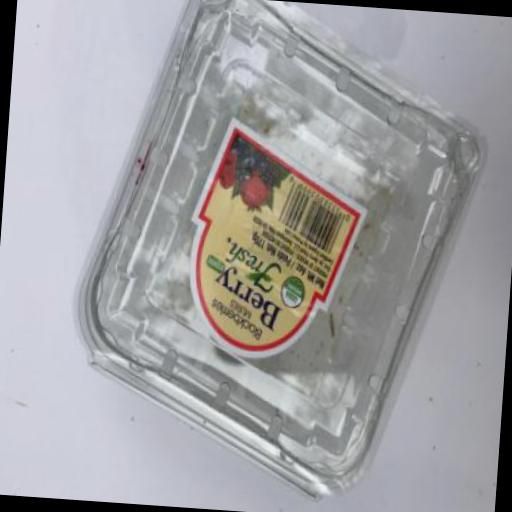plastic: (61, 0, 494, 511)
